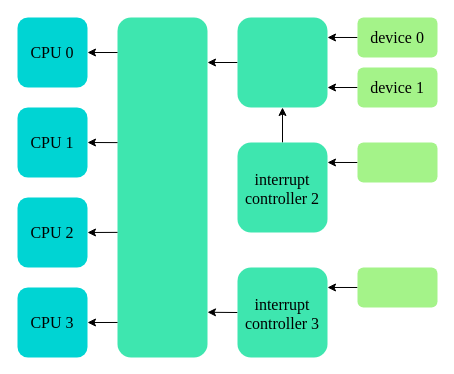
This 454x374 diagram has some shape labels left out. The box of each missing label's shape, as (x1, y1, x2, y2) in pixels:
device 2: (357, 142, 437, 182)
device 3: (357, 267, 437, 307)
interrupt controller 0: (117, 17, 207, 357)
interrupt controller 1: (237, 17, 327, 107)
